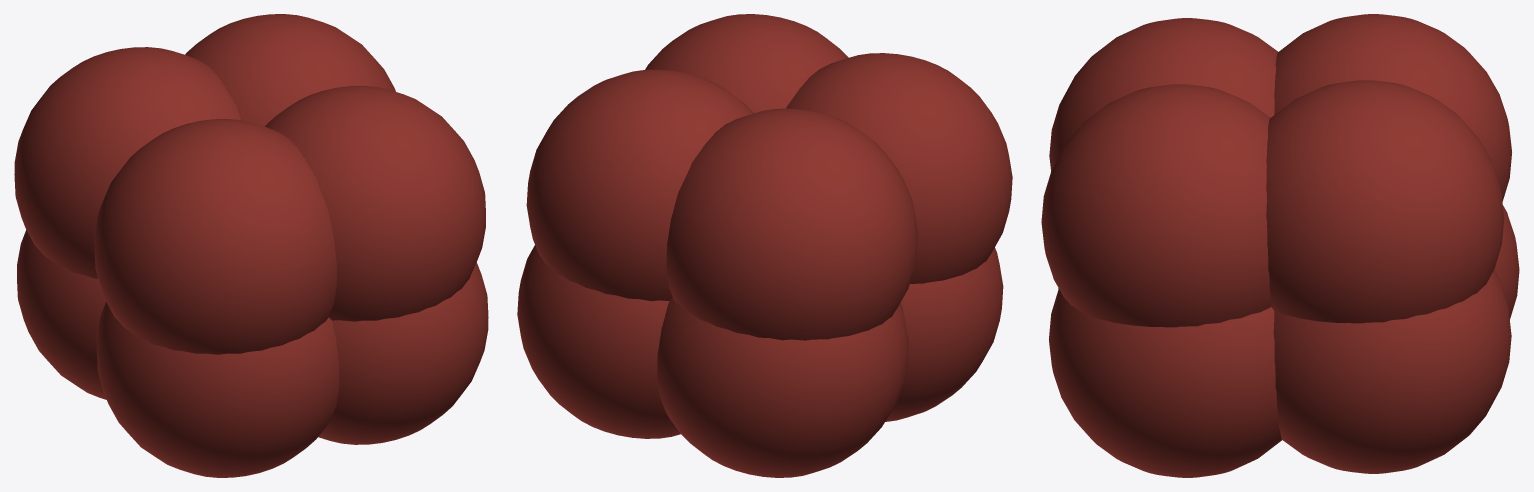
Rendered from garcinae.glb.
The picture shows the model from 3 angles, left to right: view 1: azimuth 30°, elevation 25°; view 2: azimuth 150°, elevation 25°; view 3: azimuth 270°, elevation 25°; orthographic projection. The views are drawn at different scales.
Parts seen in each view (by area): view 1: Sphere.008, Sphere.011, Sphere.007, Sphere.012, Sphere.005, Sphere.010, Sphere.003; view 2: Sphere.012, Sphere.010, Sphere.003, Sphere.008, Sphere.006, Sphere.011, Sphere.007; view 3: Sphere.010, Sphere.011, Sphere.006, Sphere.005, Sphere.012, Sphere.008, Sphere.003.
Part boxes in pixels (<box>): Sphere.008: <box>94,119,336,354</box>; Sphere.011: <box>265,86,485,321</box>; Sphere.007: <box>96,302,339,477</box>; Sphere.012: <box>14,47,240,278</box>; Sphere.005: <box>318,262,488,444</box>; Sphere.010: <box>185,14,395,126</box>; Sphere.003: <box>17,230,106,399</box>; Sphere.012: <box>666,108,917,340</box>; Sphere.010: <box>526,69,753,301</box>; Sphere.003: <box>657,298,908,477</box>; Sphere.008: <box>786,53,1012,283</box>; Sphere.006: <box>517,245,680,438</box>; Sphere.011: <box>645,14,848,113</box>; Sphere.007: <box>885,247,1003,421</box>; Sphere.010: <box>1266,80,1504,323</box>; Sphere.011: <box>1041,84,1271,327</box>; Sphere.006: <box>1273,270,1511,473</box>; Sphere.005: <box>1049,289,1281,477</box>; Sphere.012: <box>1274,14,1511,201</box>; Sphere.008: <box>1049,18,1277,171</box>; Sphere.003: <box>1494,205,1519,319</box>.
Bounding box in the file's own units: 3.3 × 3 × 3.45.
